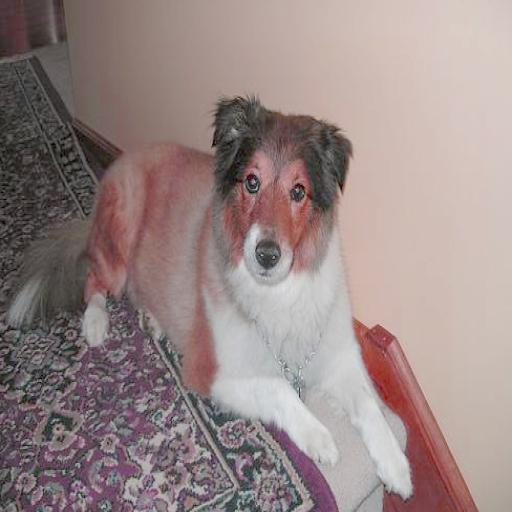dog_face: (214, 92, 349, 284)
